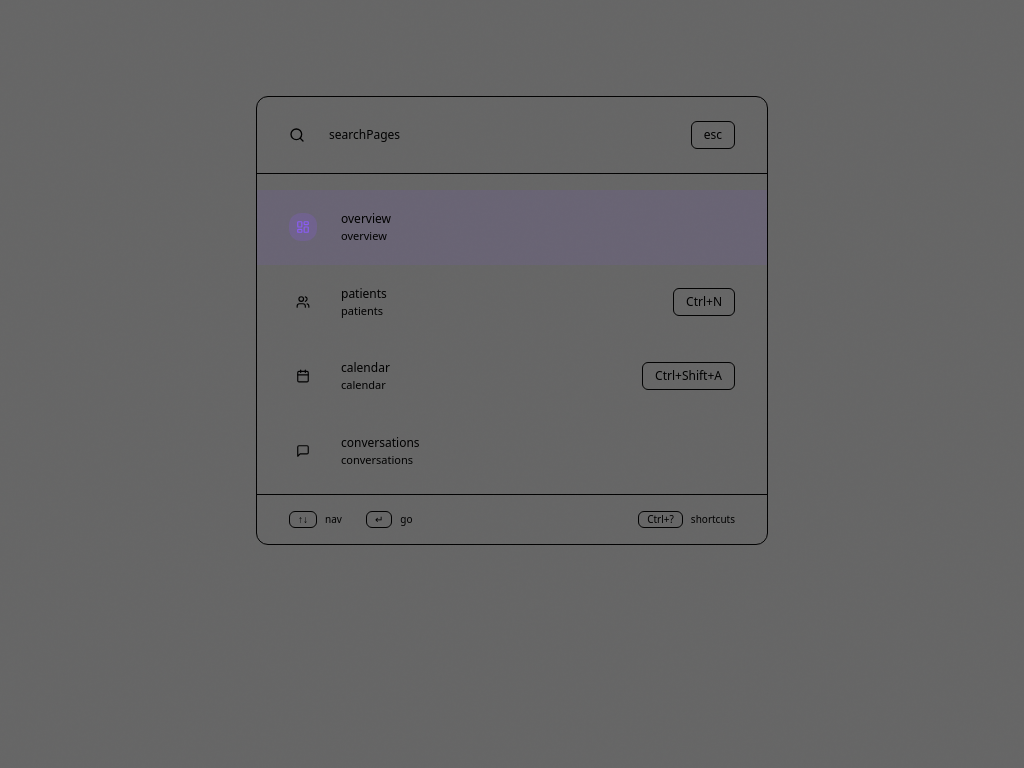
CommandPalette › filters items based on search query
This screenshot has width=1024, height=768.
Step 1. Type "pati" into the field with placeholder "searchPages" → [498, 135], box [329, 127, 667, 143]
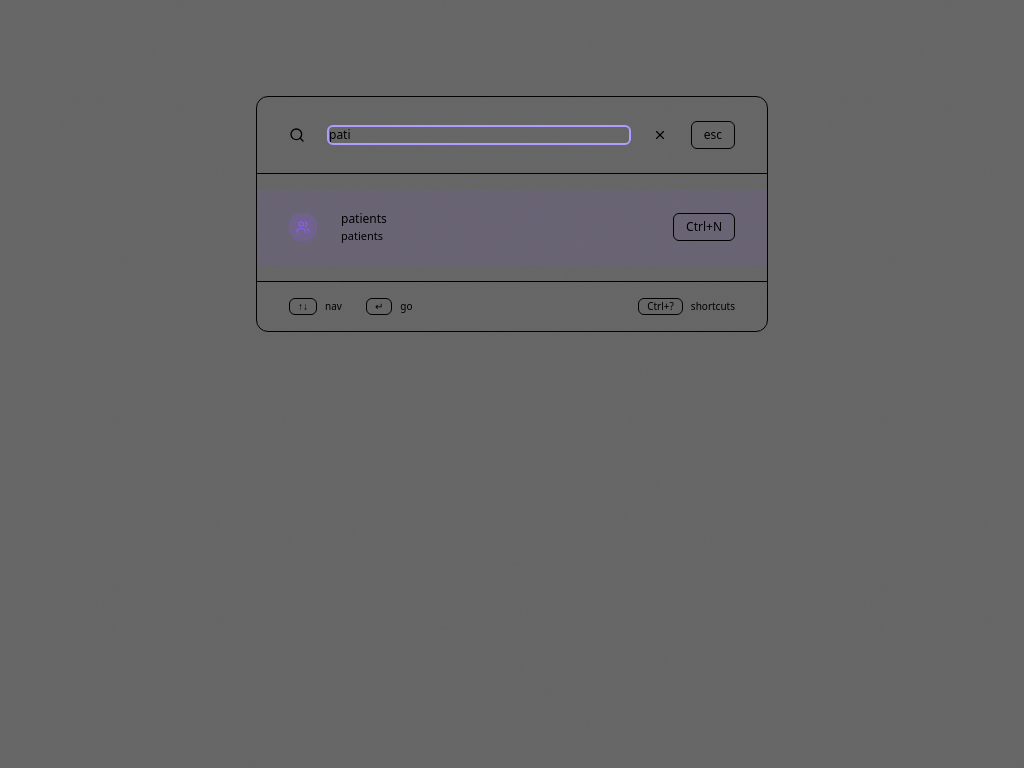
Expected: the 1st text "patients" is shown, [341, 210, 387, 227]
Expected: the button "calendar" is gone
